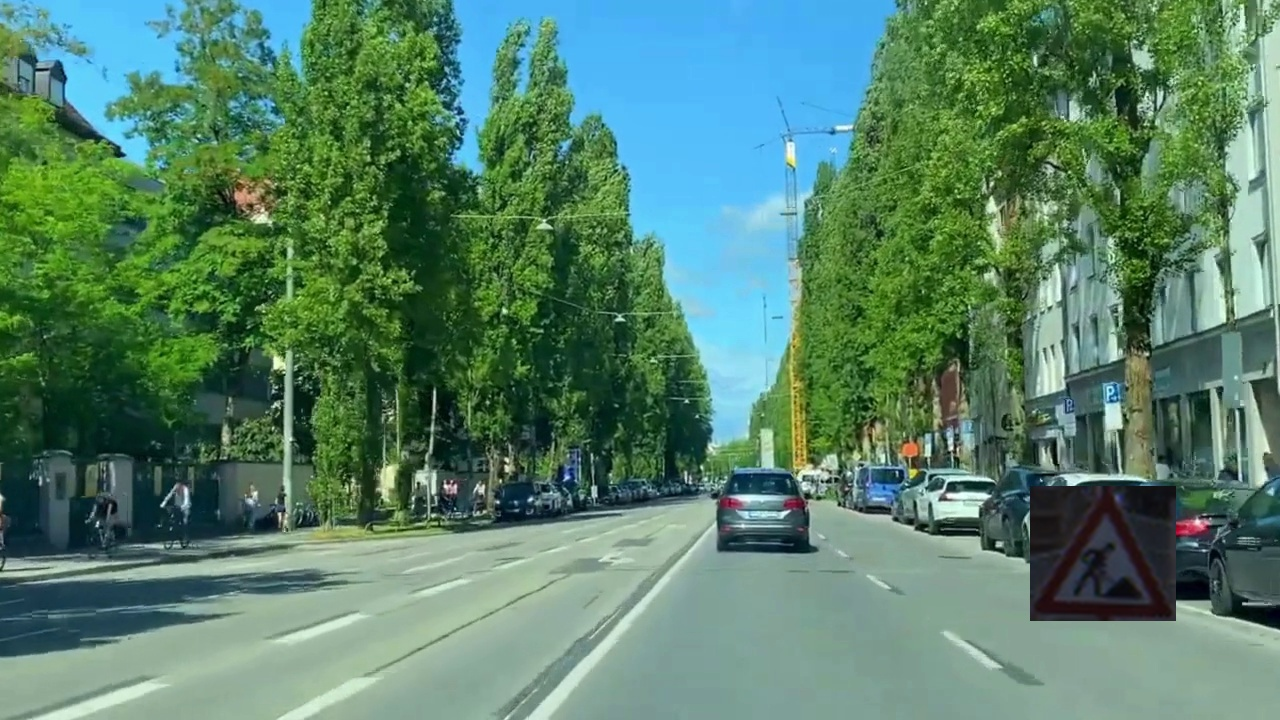Road work: (1030, 486, 1176, 621)
